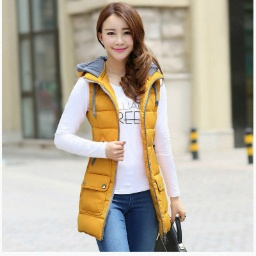face: (94, 3, 148, 66)
